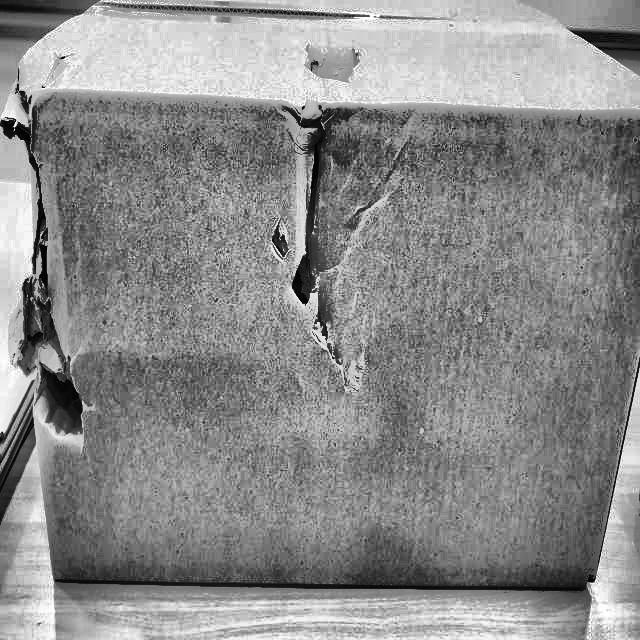box: (1, 0, 639, 609)
hole: (13, 89, 95, 444), (277, 107, 349, 335)
